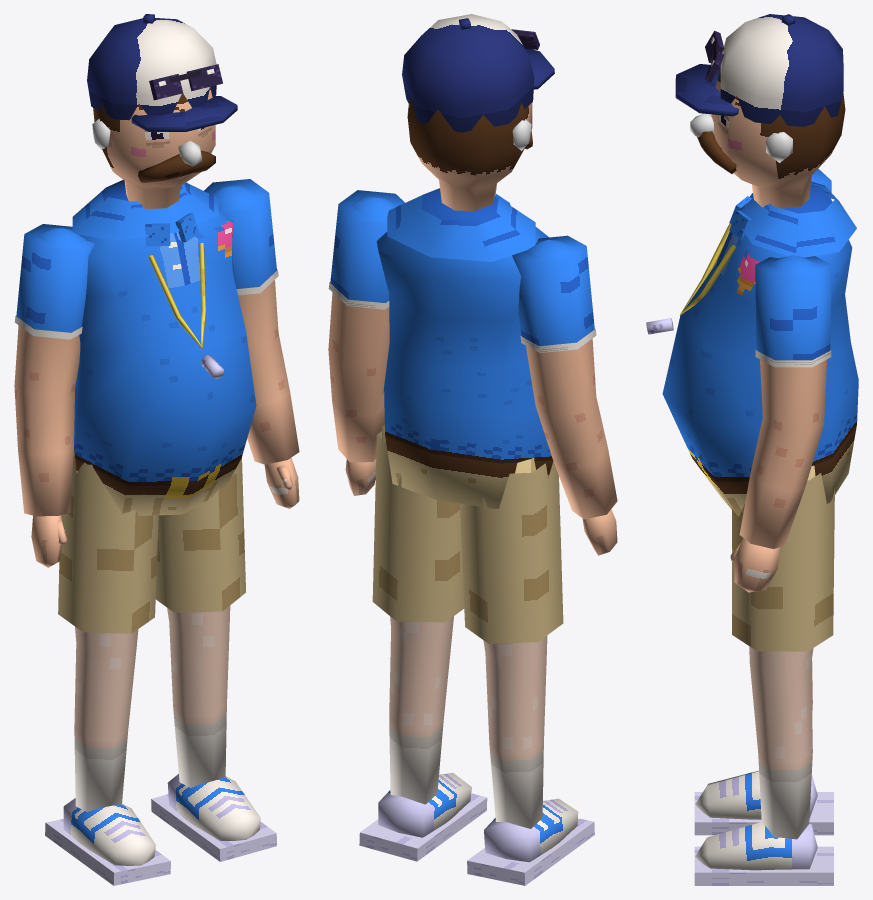
The model's file is Dad Blue.fbx.
3 renders of one model, left to right at view 1: azimuth 30°, elevation 25°; view 2: azimuth 150°, elevation 25°; view 3: azimuth 270°, elevation 25°, orthographic.
Visible parts, largest first — view 1: Dad Blue torso, Dad Blue shorts R, Dad Blue arm R.001, Dad Blue leg R.001, Dad Blue shorts L, Dad Blue leg L.001, Dad Blue ball cap crown, Dad Blue arm L.001, Dad Blue sleeve R, Dad Blue head, Dad Blue polo collar, Dad Blue shoe L (+12 smaller); view 2: Dad Blue torso, Dad Blue shorts R, Dad Blue ball cap crown, Dad Blue shorts L, Dad Blue arm R.001, Dad Blue leg R.001, Dad Blue leg L.001, Dad Blue arm L.001, Dad Blue head, Dad Blue sleeve R, Dad Blue polo collar, Dad Blue sleeve L (+8 smaller); view 3: Dad Blue torso, Dad Blue shorts L, Dad Blue ball cap crown, Dad Blue arm L.001, Dad Blue leg L.001, Dad Blue head, Dad Blue sleeve L, Dad Blue polo collar, Dad Blue shoe L, Dad Blue sole L, Dad Blue shoe R, Dad Blue ball cap bill (+6 smaller).
Boxes of the visible parts, x1,y1,x2,y2 form: Dad Blue torso: (74, 183, 256, 515); Dad Blue shorts R: (58, 455, 158, 633); Dad Blue arm R.001: (14, 228, 86, 516); Dad Blue leg R.001: (73, 449, 138, 812); Dad Blue shorts L: (155, 458, 245, 612); Dad Blue leg L.001: (167, 605, 230, 787); Dad Blue ball cap crown: (87, 18, 216, 120); Dad Blue arm L.001: (211, 184, 299, 464); Dad Blue sleeve R: (16, 224, 94, 332); Dad Blue head: (93, 87, 215, 209); Dad Blue polo collar: (72, 180, 218, 240); Dad Blue shoe L: (167, 774, 260, 840); Dad Blue torso: (376, 189, 553, 508); Dad Blue shorts R: (460, 461, 563, 643); Dad Blue ball cap crown: (402, 14, 534, 132); Dad Blue shorts L: (372, 431, 464, 622); Dad Blue arm R.001: (523, 240, 617, 519); Dad Blue leg R.001: (483, 458, 547, 828); Dad Blue leg L.001: (382, 425, 453, 804); Dad Blue arm L.001: (328, 196, 397, 462); Dad Blue head: (407, 97, 532, 210); Dad Blue sleeve R: (512, 235, 594, 346); Dad Blue polo collar: (387, 188, 535, 261); Dad Blue sleeve L: (330, 190, 404, 302); Dad Blue torso: (662, 184, 858, 516); Dad Blue shorts L: (732, 473, 834, 651); Dad Blue ball cap crown: (720, 14, 843, 126); Dad Blue arm L.001: (739, 255, 826, 548); Dad Blue leg L.001: (749, 465, 815, 839); Dad Blue head: (711, 71, 845, 208); Dad Blue sleeve L: (755, 256, 831, 360); Dad Blue polo collar: (741, 181, 856, 257); Dad Blue shoe L: (695, 822, 817, 870); Dad Blue sole L: (694, 846, 833, 885); Dad Blue shoe R: (695, 770, 817, 819); Dad Blue ball cap bill: (675, 64, 739, 116).
Bounding box in the file's own units: 0.6244 × 1.84 × 0.4278.
21 materials, 19 textured.
